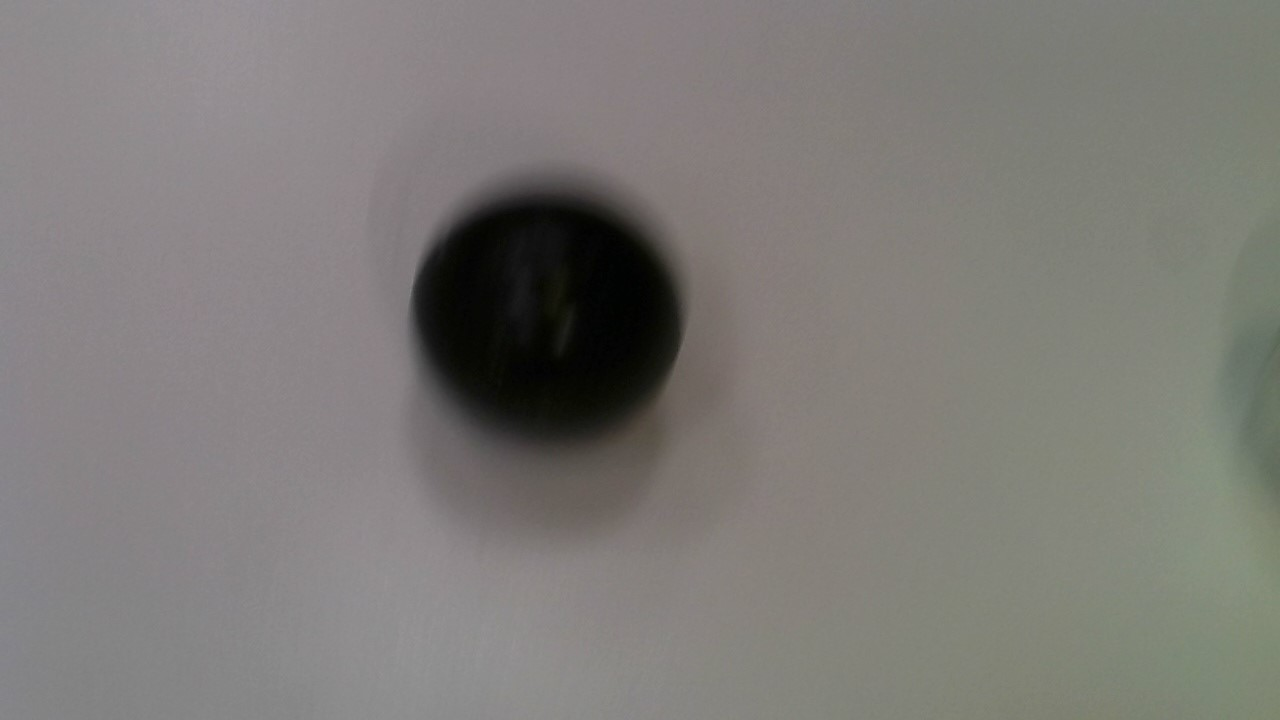black_ball: (394, 182, 697, 444)
